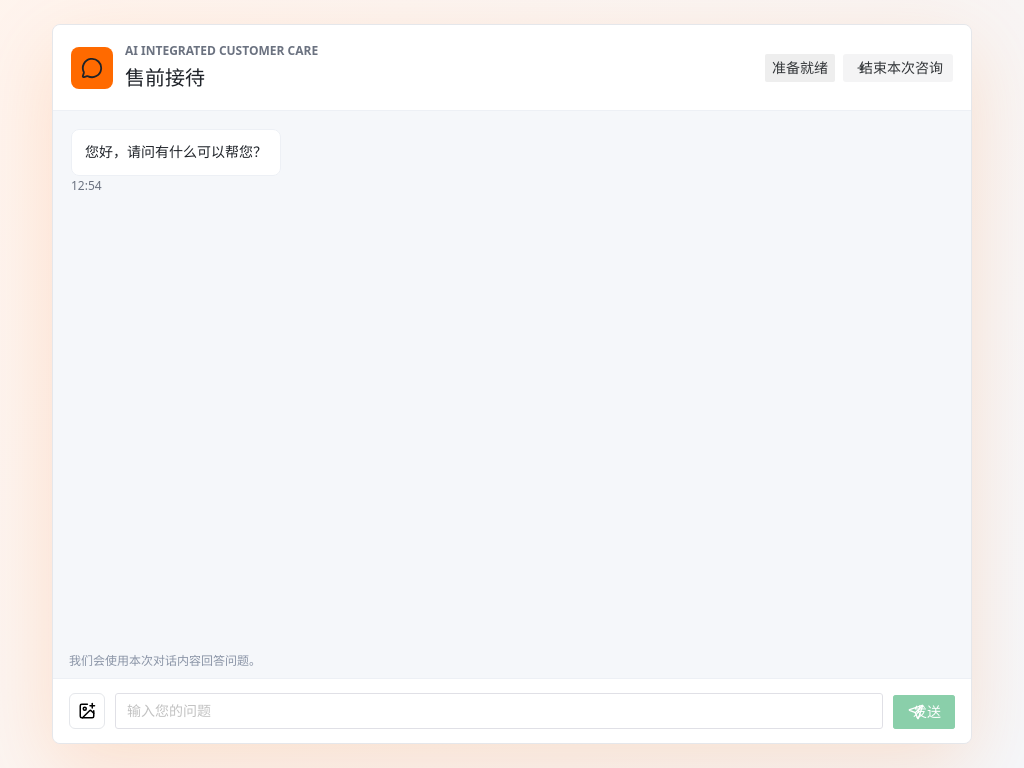
Test case: PublicAICCChatPage › labels unconfirmed web sources on an assistant reply
Step 1. Type "查询" into the text box with placeholder "输入您的问题" → (499, 711), box [127,693,871,729]
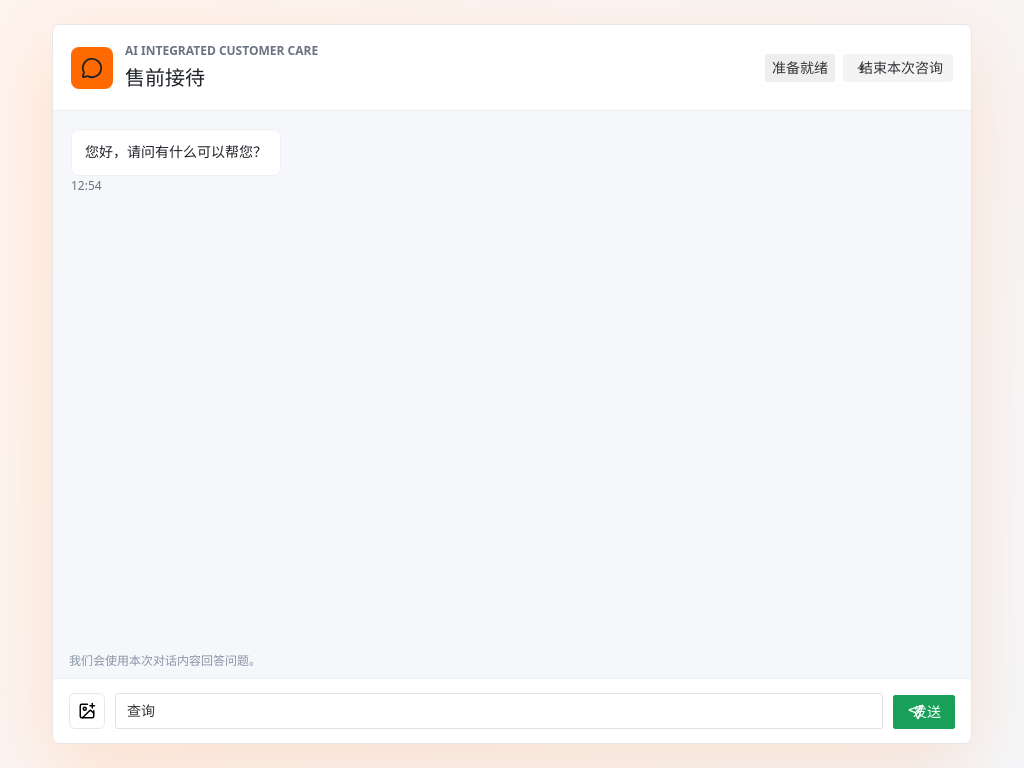
Step 2. Submit the form with class "composer", box [53,678,971,743]
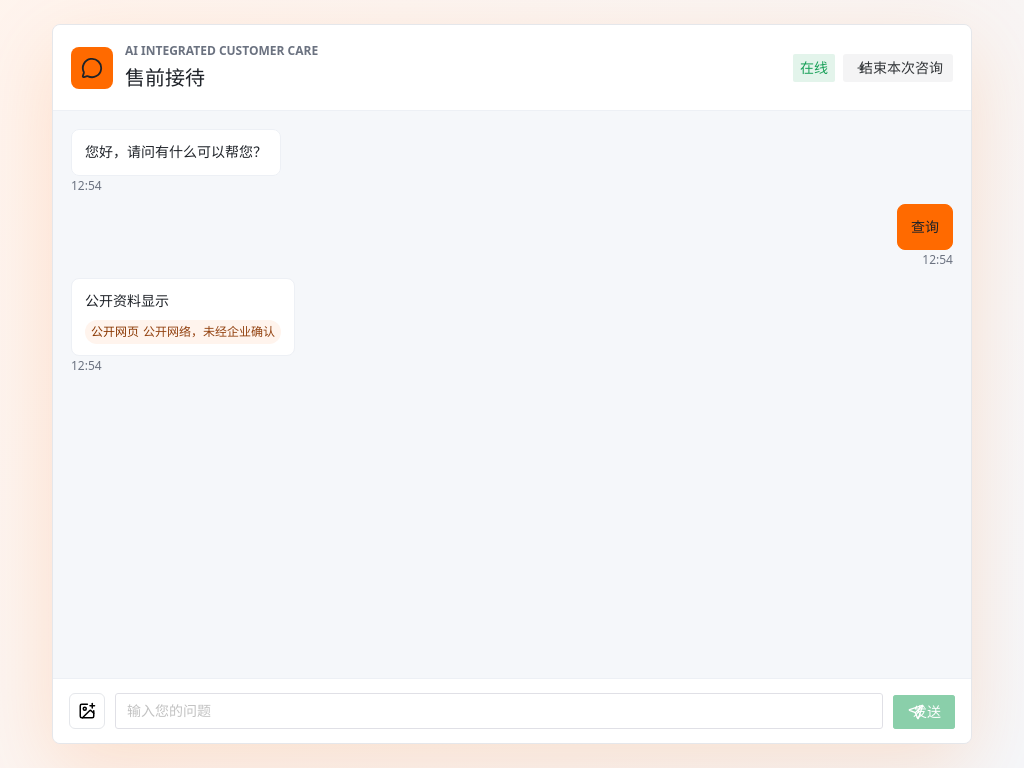
Expected: the text "公开网页" is shown, [91,323,139,340]
Expected: the text "公开网络，未经企业确认" is shown, [143,323,275,340]
